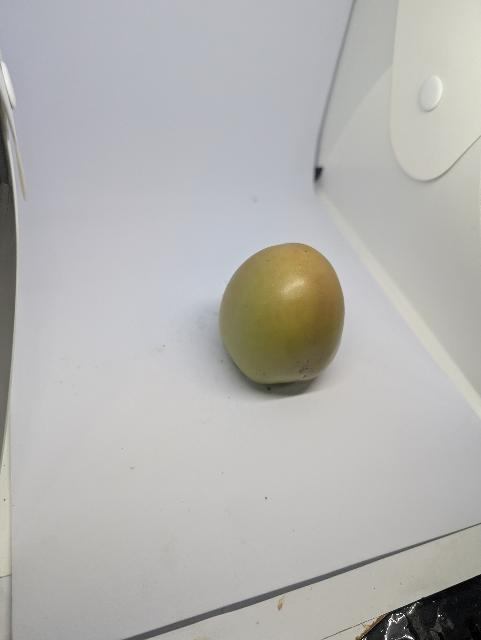breaker: (219, 243, 345, 384)
